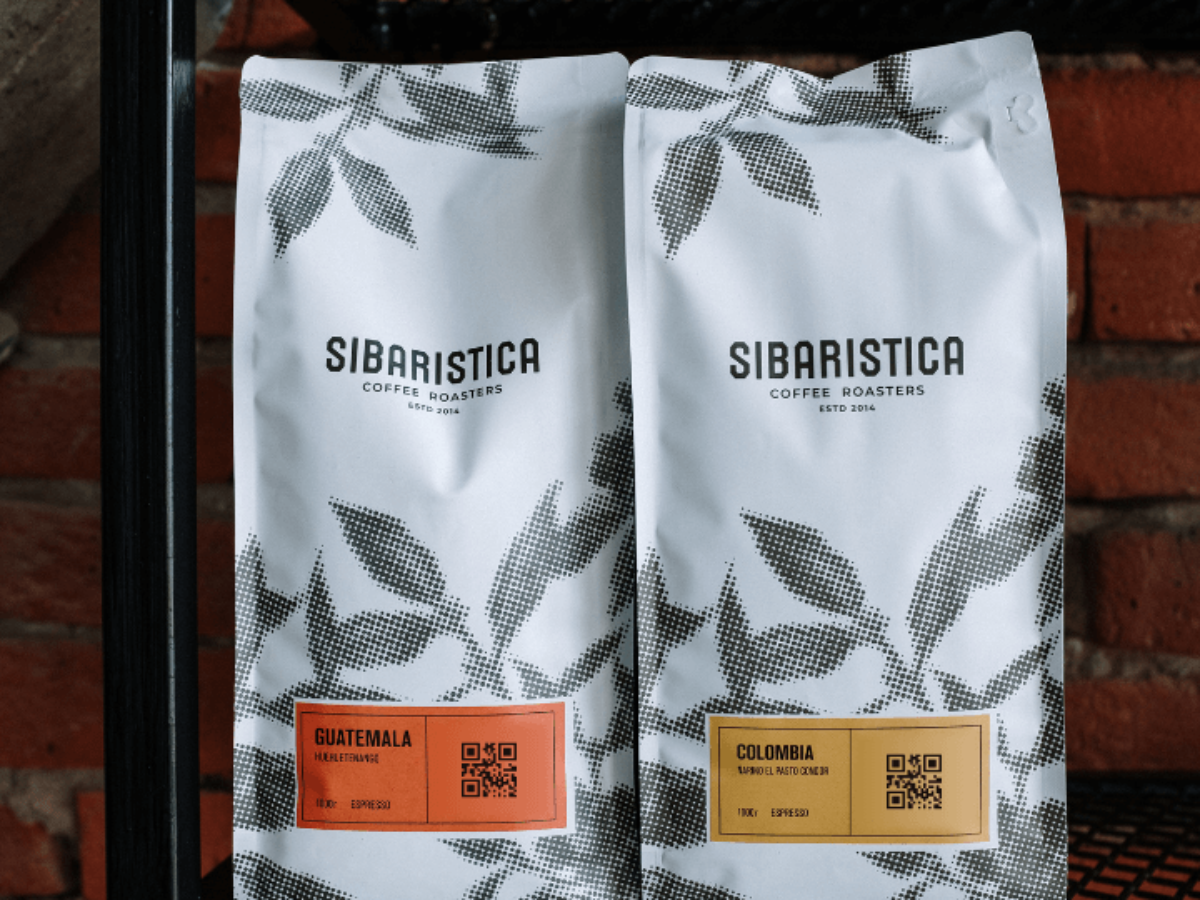qr_code: (459, 739, 521, 801), (885, 753, 947, 813)
